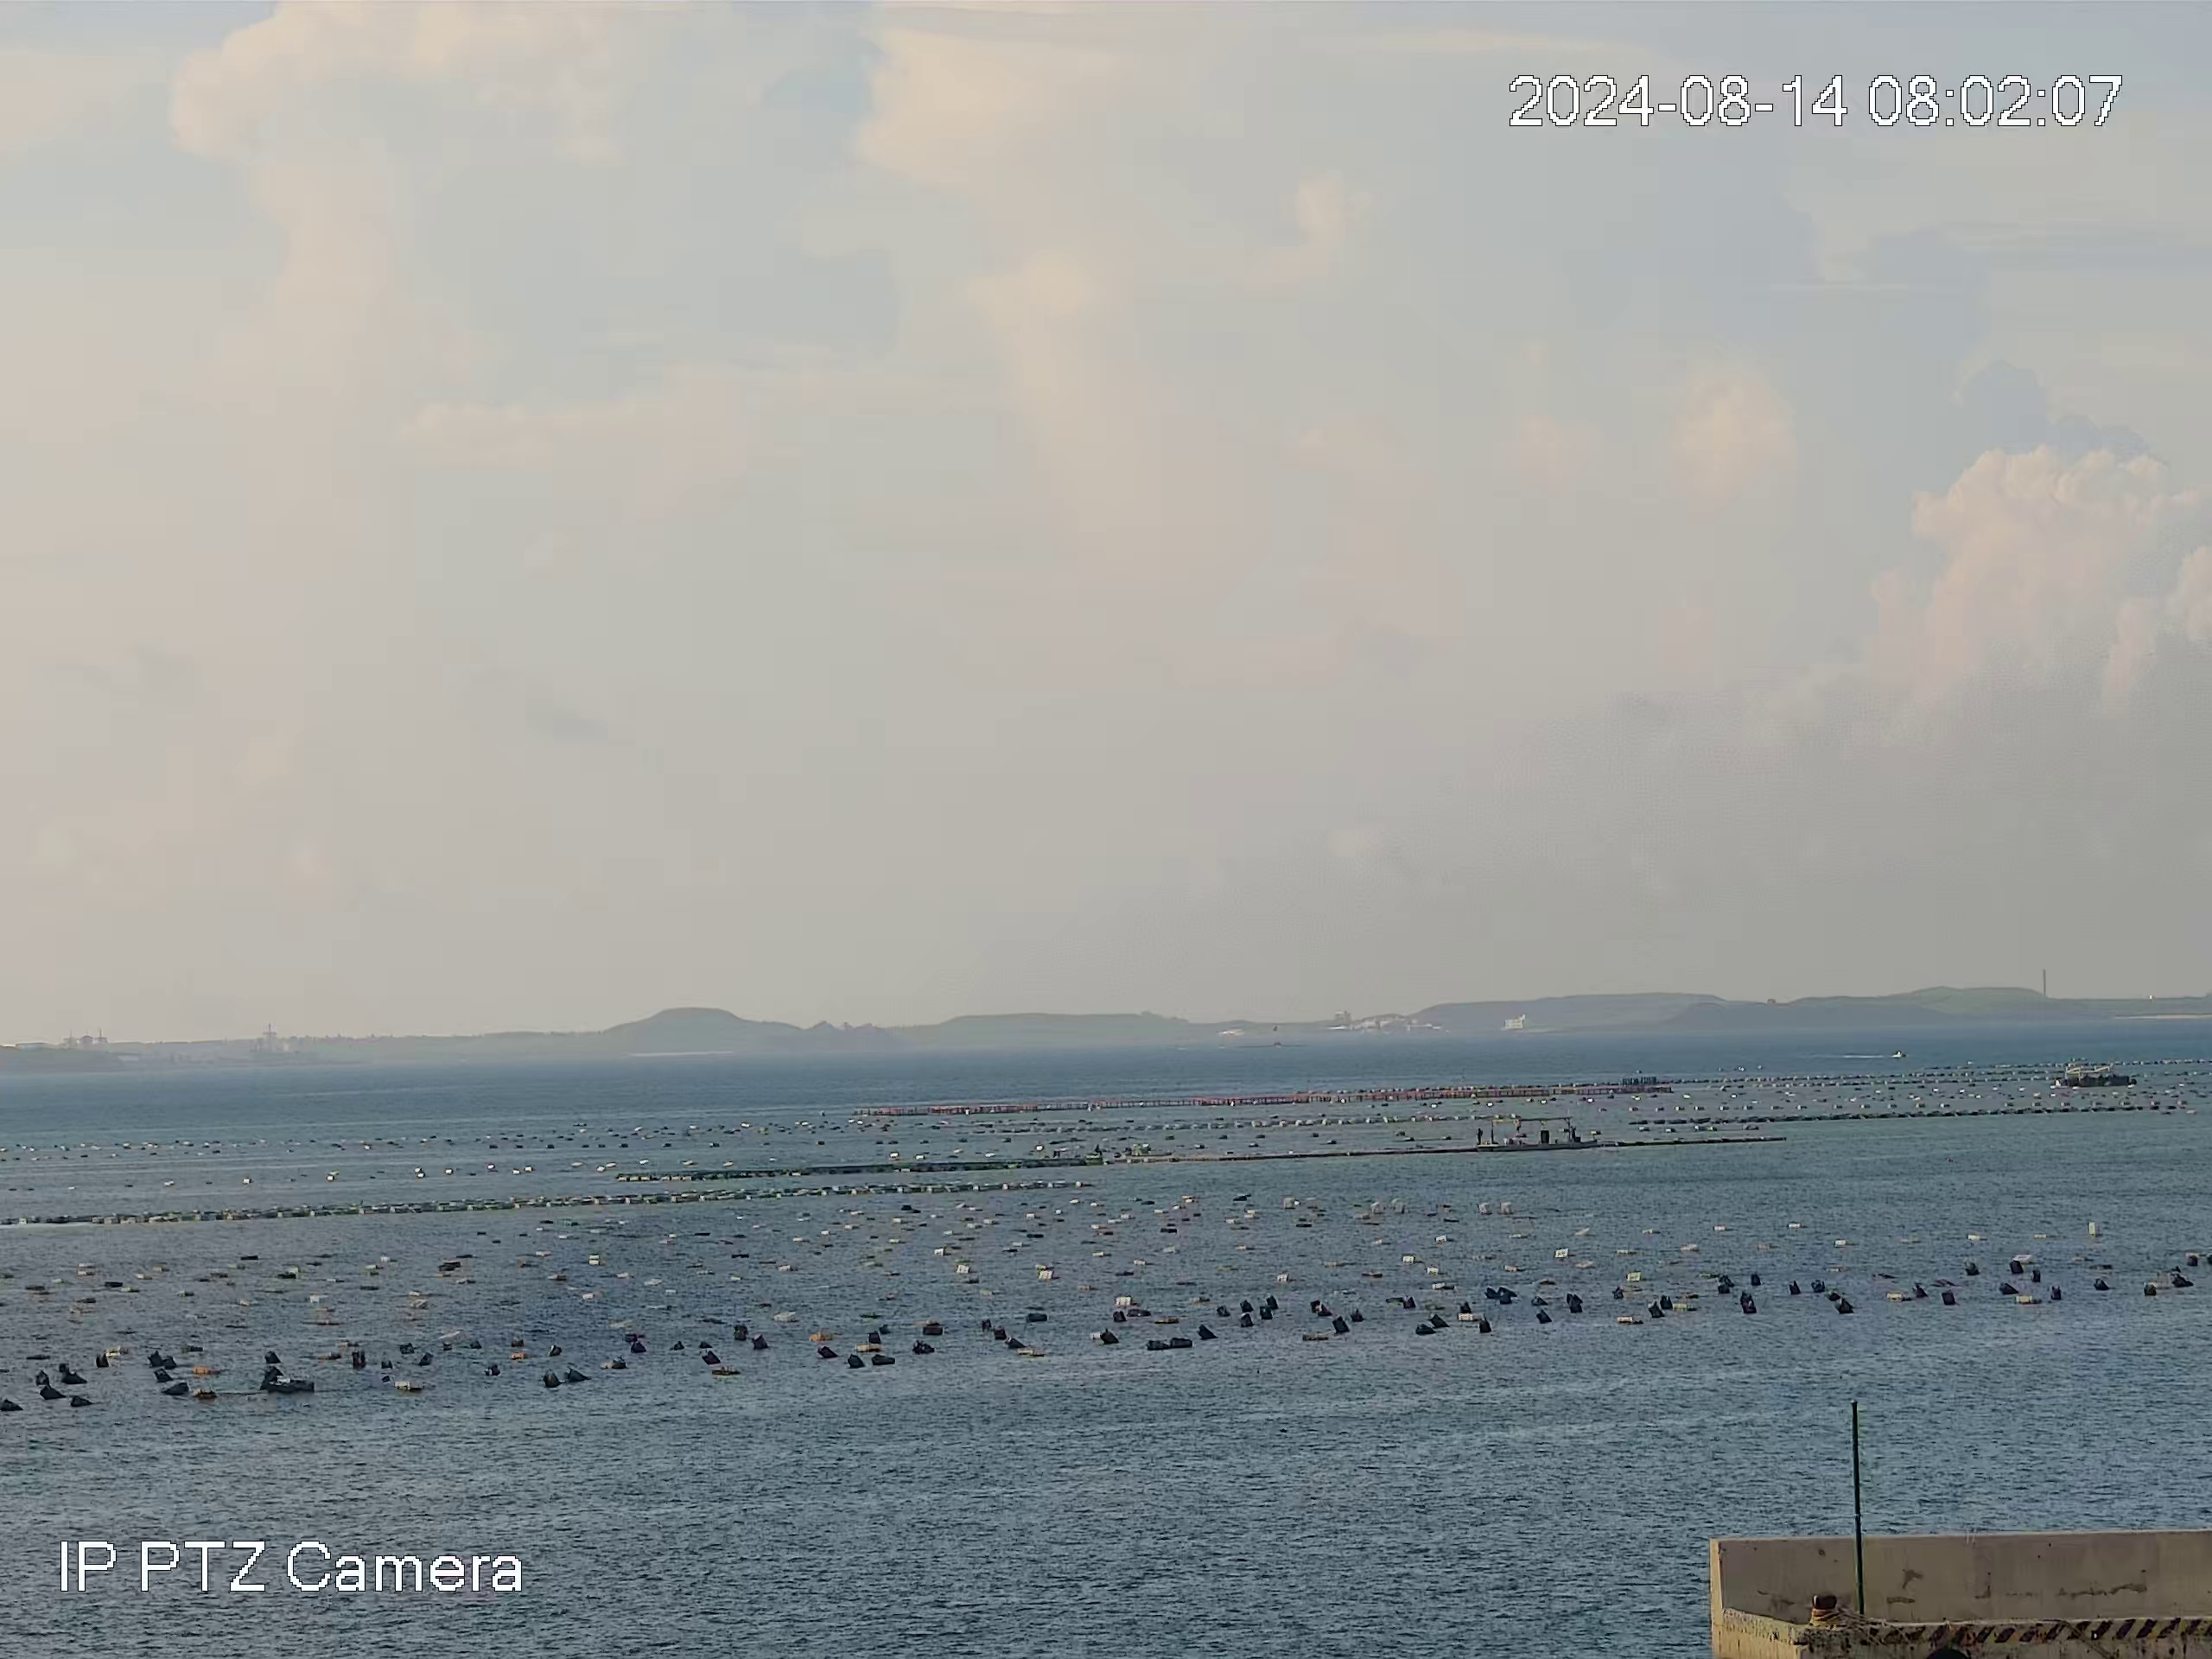boat: (1475, 1112, 1597, 1148), (2057, 1060, 2142, 1091)
